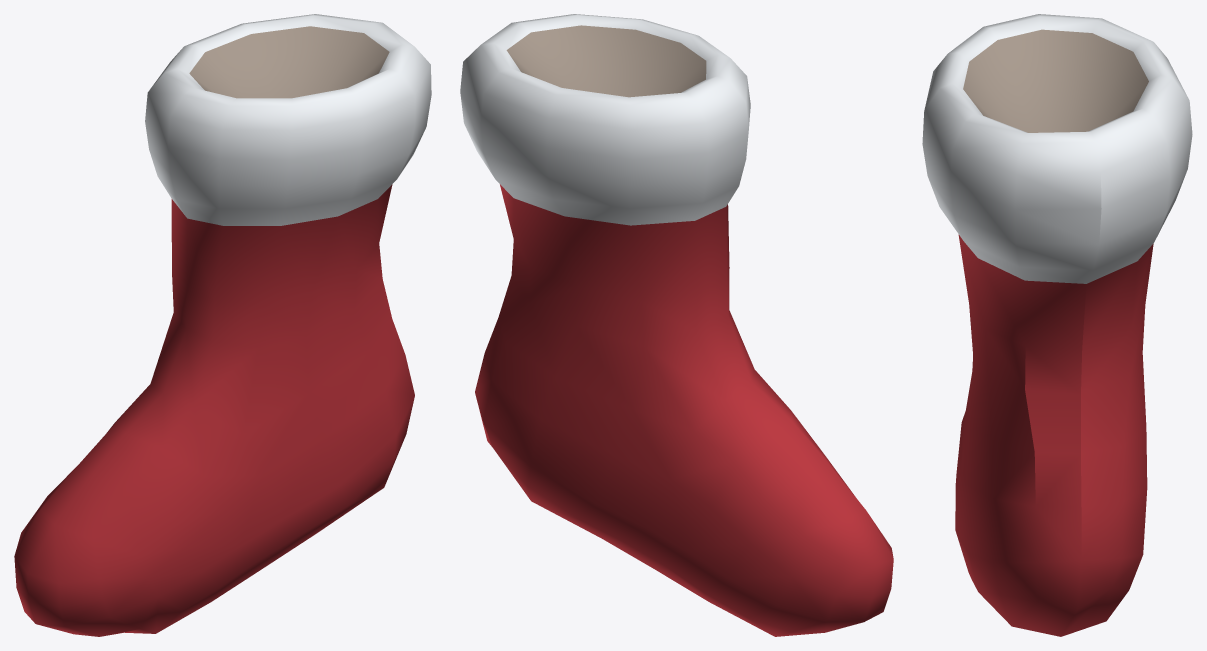
Rendered from meia_natal_vermelha_pacote.glb.
The picture shows the model from 3 angles, left to right: view 1: azimuth 30°, elevation 25°; view 2: azimuth 150°, elevation 25°; view 3: azimuth 270°, elevation 25°; orthographic projection. The views are drawn at different scales.
Parts seen in each view (by area): view 1: meia_natal_vermelha_pacote; view 2: meia_natal_vermelha_pacote; view 3: meia_natal_vermelha_pacote.
Boxes of the visible parts, bbox=[...] form: meia_natal_vermelha_pacote: bbox=[14, 14, 431, 636]; meia_natal_vermelha_pacote: bbox=[460, 14, 893, 636]; meia_natal_vermelha_pacote: bbox=[922, 14, 1192, 636].
Bounding box in the file's own units: 0.3252 × 0.41 × 0.1622.
Materials: 1 (1 with a texture image).
